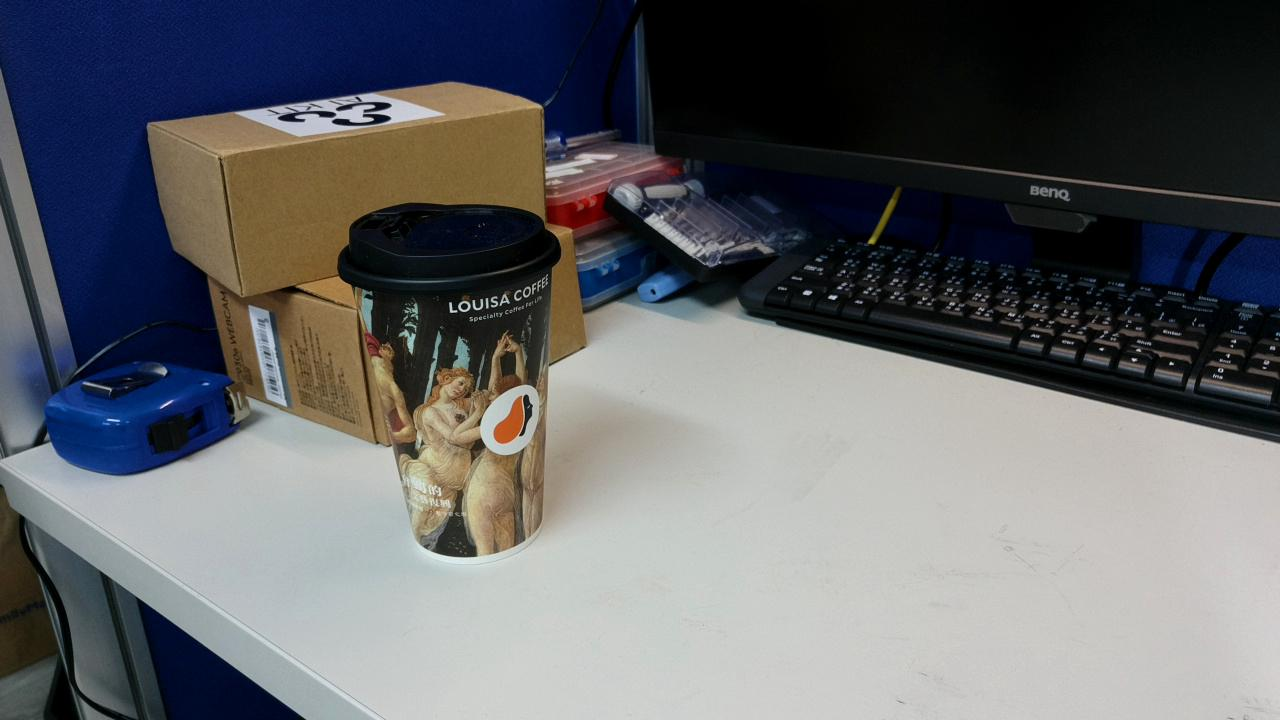long: (652, 368, 928, 496)
